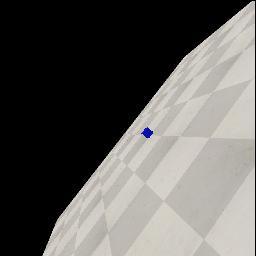box: (141, 127, 153, 138)
